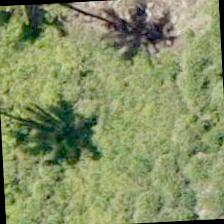Kelapa_Sawit: (0, 3, 58, 53)
